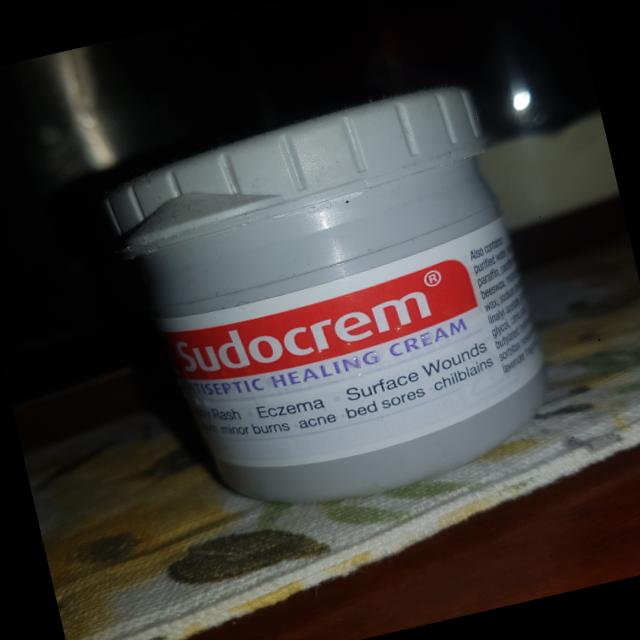general: (91, 74, 568, 540)
